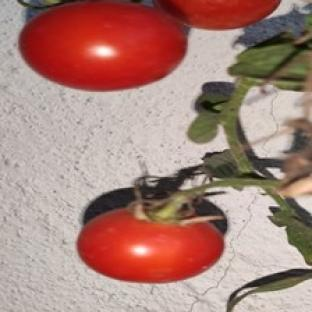Tomato: (77, 209, 224, 282)
